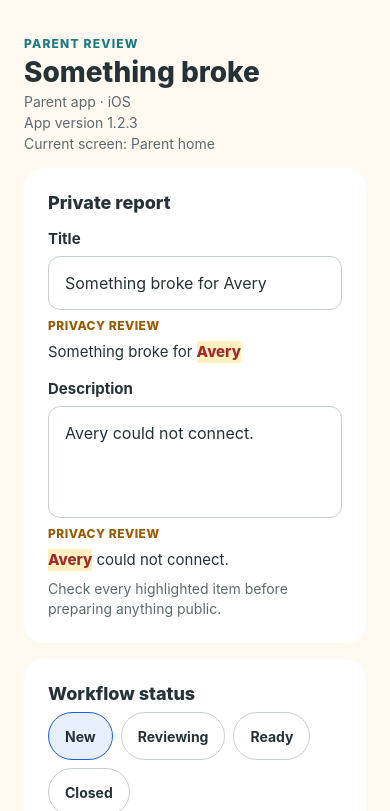
Scenario: parent feedback review › preserves the complete edited draft after a failed save
Check: the field showing "Something broke for Avery" is shown, box [48,256,342,310]
Replace the text in the text box named "Feedback description" with "Keep this private draft.": (195, 462) [48,406,342,518]
(page scrolled)
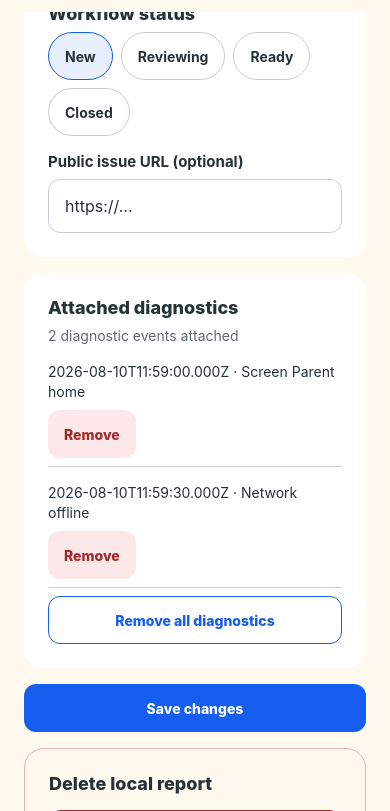
Click the button with aria-label "Remove diagnostic event 1": (92, 434) [48,410,136,458]
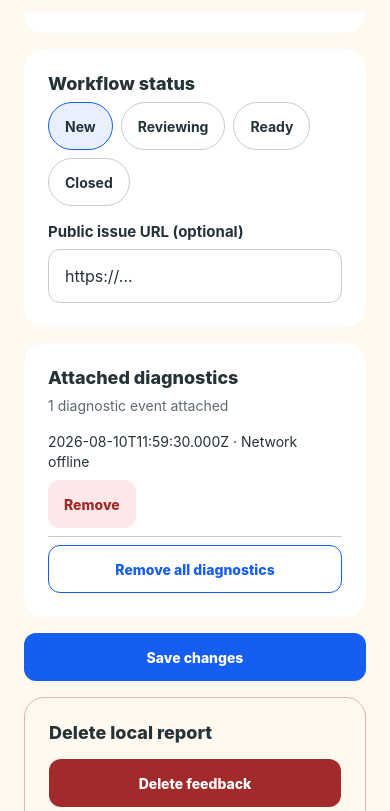
Click the button "Save changes": (195, 657) [24,633,366,681]
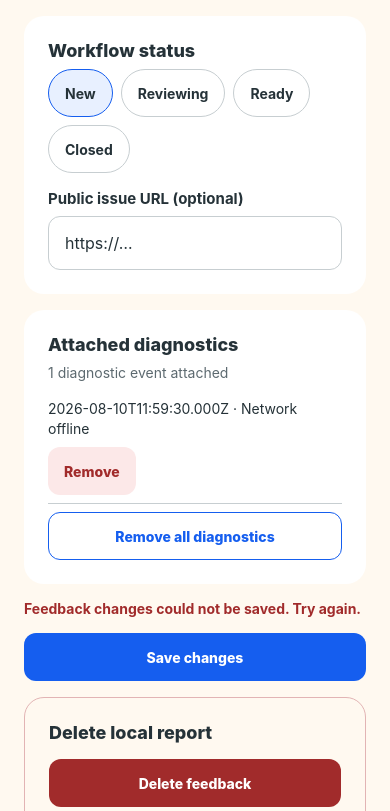
Check: the text "1 diagnostic event attached" is shown, box [48,364,228,381]
Check: the message "Feedback changes could not be saved. Try again." is shown, box [24,600,366,617]
